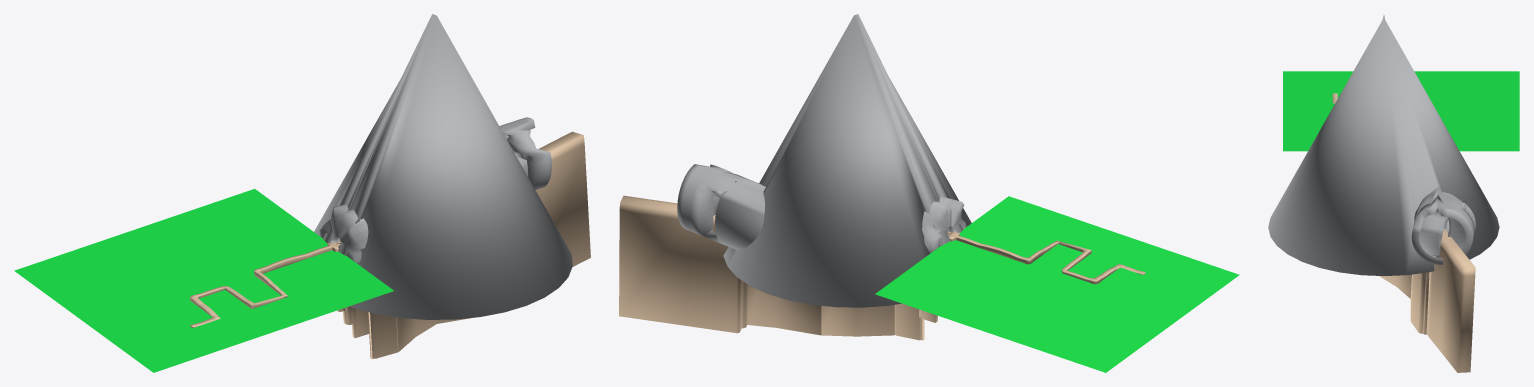
The model's file is Level 1.fbx.
3 renders of one model, left to right at view 1: azimuth 30°, elevation 25°; view 2: azimuth 150°, elevation 25°; view 3: azimuth 270°, elevation 25°, orthographic. The views are drawn at different scales.
Parts seen in each view (by area): view 1: Cone, Plane, Cube; view 2: Cone, Plane, Cube; view 3: Cone, Plane, Cube.
Part boxes in pixels (x1,y1,x2,y2): Cone: [314, 14, 572, 319]; Plane: [14, 189, 393, 372]; Cube: [190, 131, 590, 359]; Cone: [677, 14, 971, 307]; Plane: [875, 196, 1239, 372]; Cube: [619, 195, 1145, 340]; Cone: [1268, 14, 1499, 275]; Plane: [1283, 71, 1519, 151]; Cube: [1330, 93, 1475, 372].
Bounding box in the file's own units: 59774 × 35013 × 28414.
